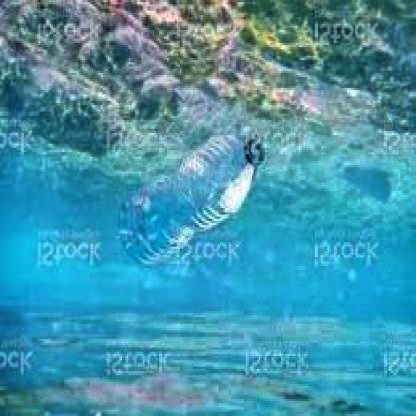pbottle: (109, 126, 265, 274)
